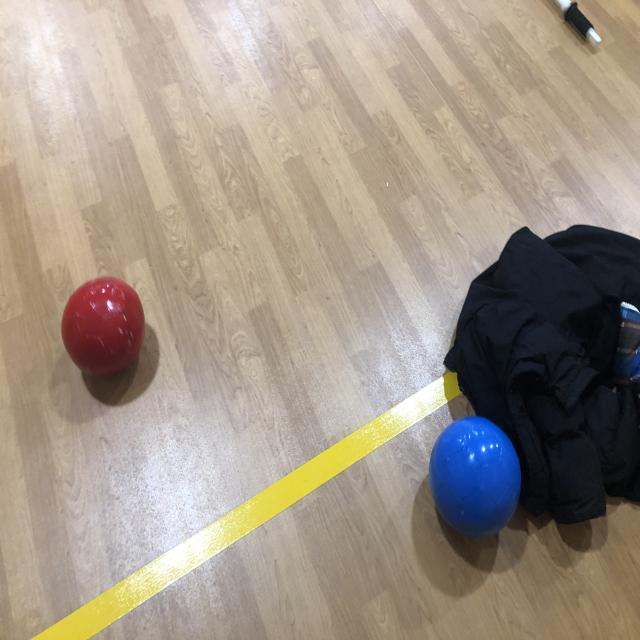blue_ball: (427, 416, 524, 546)
red_ball: (60, 278, 148, 386)
